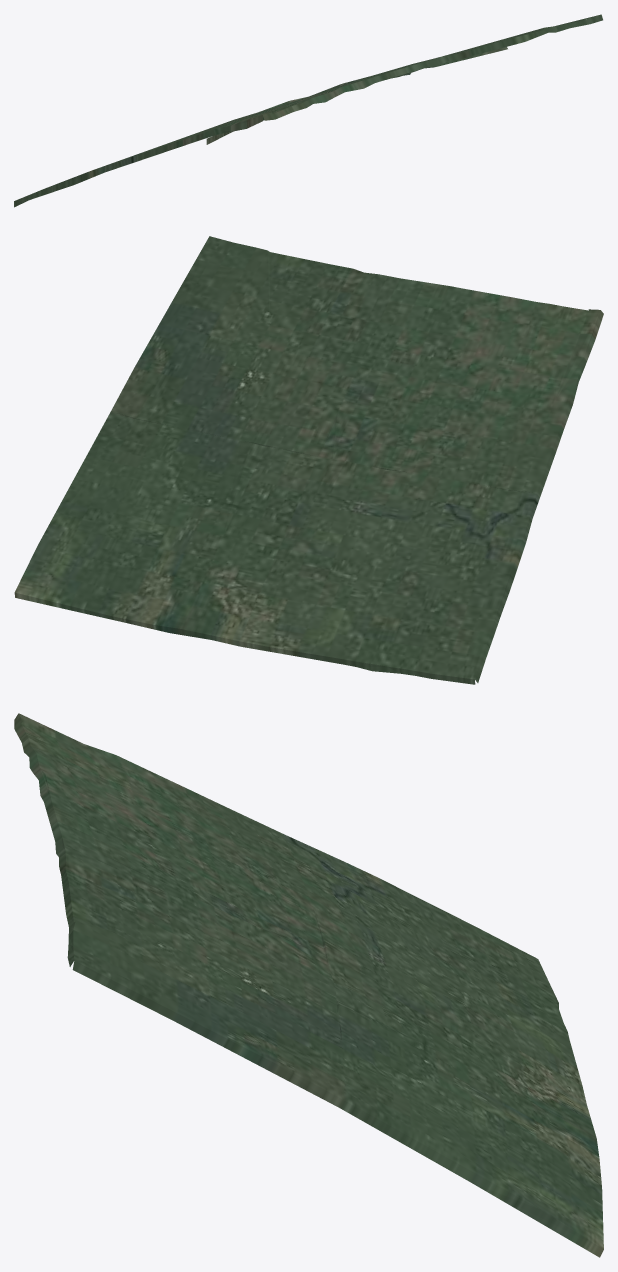
3 views of the same model, one above another, from view 1: azimuth 30°, elevation 25°; view 2: azimuth 150°, elevation 25°; view 3: azimuth 270°, elevation 25° (orthographic). The views are drawn at different scales.
Bounding box in the file's own units: 701563 × 337184 × 600120.
1 material, 1 textured.
